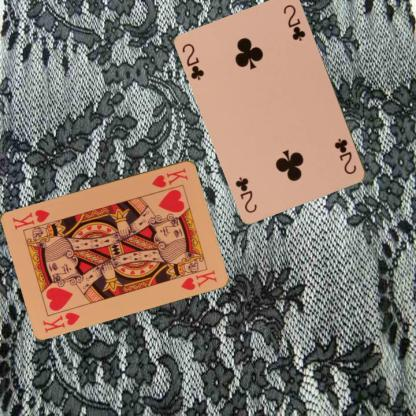2c: (180, 41, 206, 82), (332, 136, 358, 176)
Kh: (40, 309, 81, 334), (149, 165, 190, 189)
